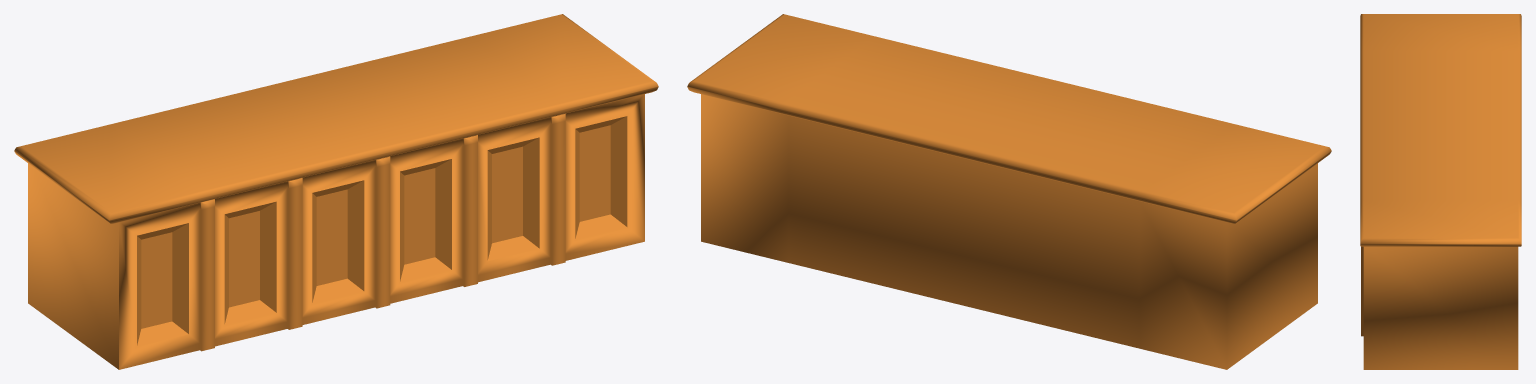
File: Barcounter.fbx
The picture shows the model from 3 angles, left to right: view 1: azimuth 30°, elevation 25°; view 2: azimuth 150°, elevation 25°; view 3: azimuth 270°, elevation 25°; orthographic projection. The views are drawn at different scales.
Parts seen in each view (by area): view 1: Cube; view 2: Cube; view 3: Cube.
Boxes of the visible parts, x1,y1,x2,y2 form: Cube: (14, 14, 658, 369); Cube: (687, 14, 1331, 369); Cube: (1360, 14, 1521, 369).
Bounding box in the file's own units: 499 × 138 × 150.
